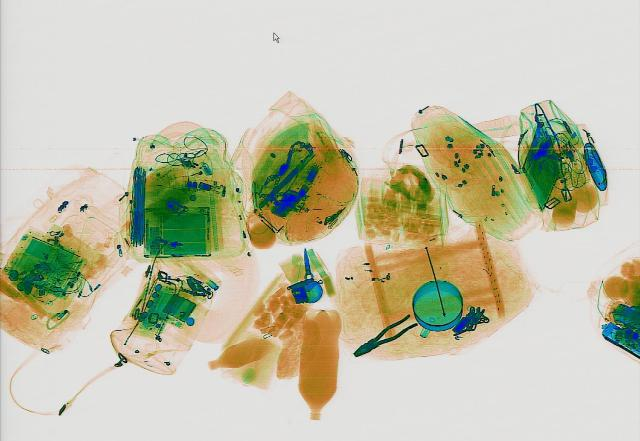Pliers: (346, 313, 420, 360)
